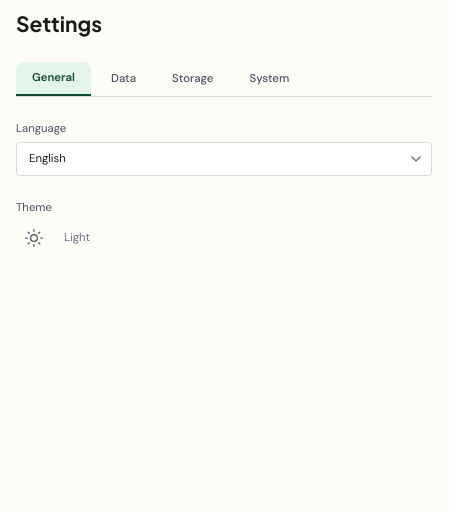
Test case: SettingsPage › renders log stats with file count and date range on System tab
Click the tab "System".
click(269, 79)  # box left=234, top=62, right=305, bottom=96
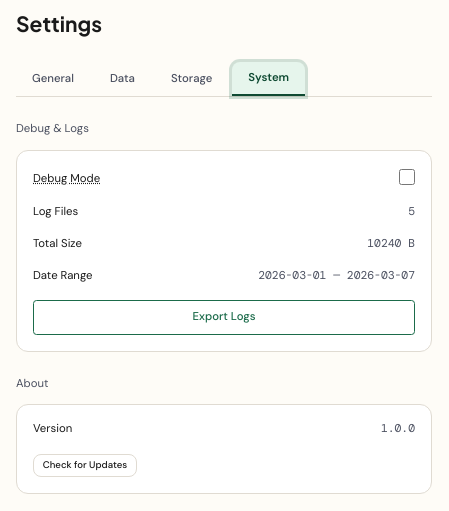
Expected: the text "5" is shown, left=408, top=204, right=415, bottom=220
Expected: the text "10240 B" is shown, left=367, top=236, right=415, bottom=252
Expected: the text "2026-03-01 — 2026-03-07" is shown, left=258, top=268, right=415, bottom=284
